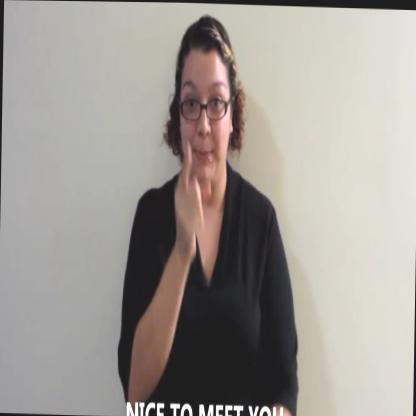NiceToMeetYou: (158, 135, 232, 286)
